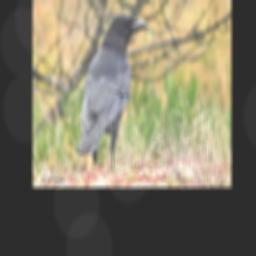Crow: (76, 13, 149, 175)
